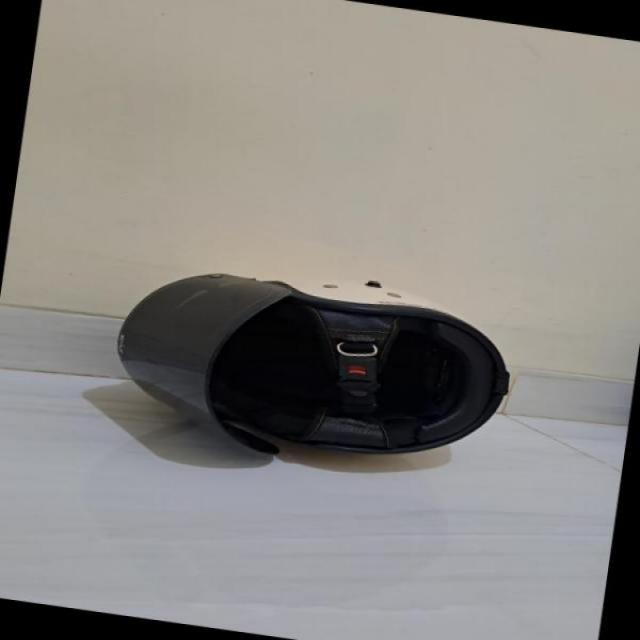Helmet: (109, 246, 525, 478)
